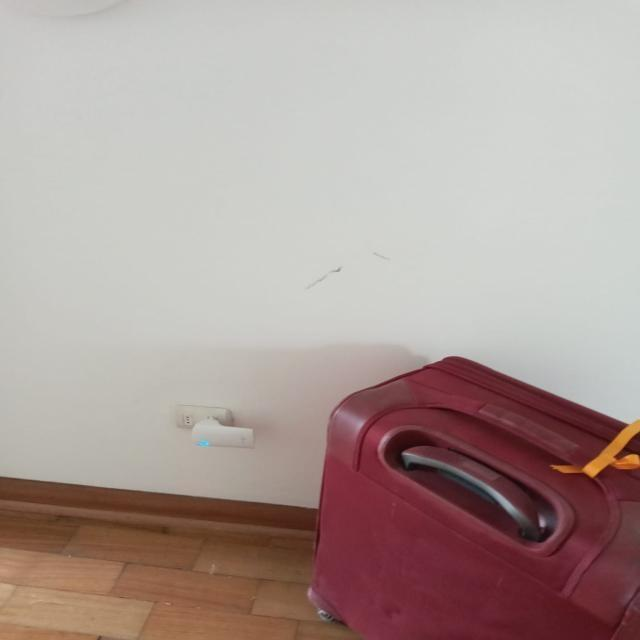Suitcase: (309, 352, 640, 640)
